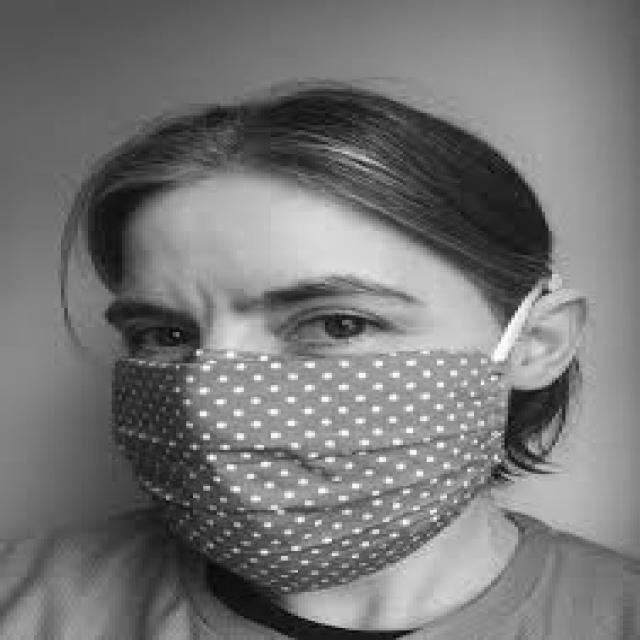fake: (105, 349, 517, 597)
real: (112, 185, 502, 610)
